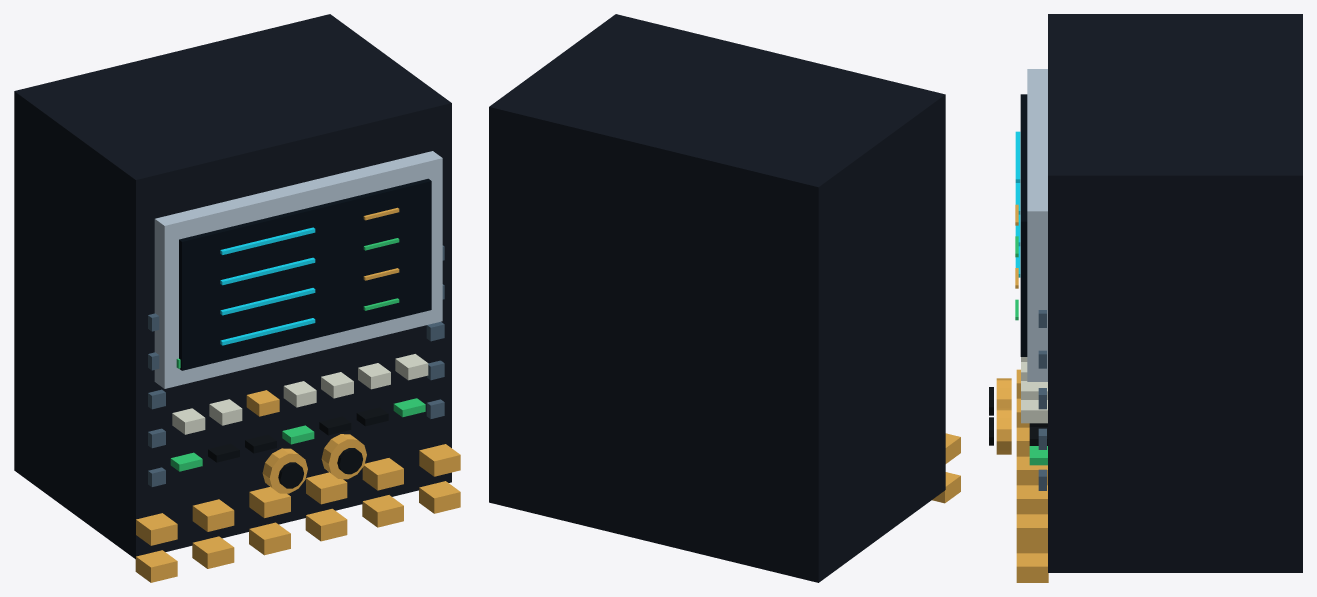
File: 80_L92_SampleTransportContainer.fbx
3 views of the same model, side by side, from view 1: azimuth 30°, elevation 25°; view 2: azimuth 150°, elevation 25°; view 3: azimuth 270°, elevation 25° (orthographic). The views are drawn at different scales.
Parts seen in each view (by area): view 1: L92_SampleTransportContainer, L92_SampleTransportContainer_Part_0010, L92_SampleTransportContainer_Part_0012; view 2: L92_SampleTransportContainer; view 3: L92_SampleTransportContainer, L92_SampleTransportContainer_Part_0012, L92_SampleTransportContainer_Part_0010.
Boxes of the visible parts, bbox=[...] form: L92_SampleTransportContainer: bbox=[14, 14, 460, 582]; L92_SampleTransportContainer_Part_0010: bbox=[262, 448, 307, 493]; L92_SampleTransportContainer_Part_0012: bbox=[321, 434, 366, 479]; L92_SampleTransportContainer: bbox=[489, 14, 960, 582]; L92_SampleTransportContainer: bbox=[1015, 14, 1302, 582]; L92_SampleTransportContainer_Part_0012: bbox=[996, 408, 1011, 454]; L92_SampleTransportContainer_Part_0010: bbox=[996, 378, 1011, 408].
Size of the model in its own units: 107 by 127 by 87.9.
